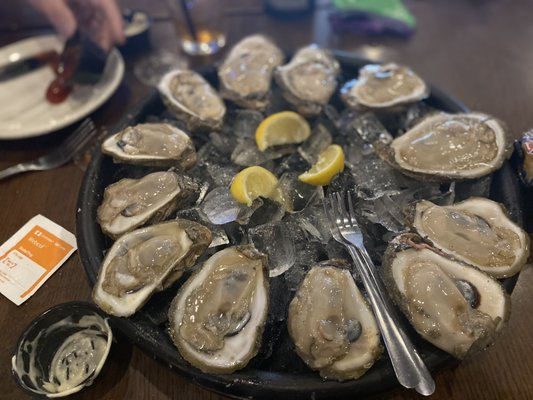burger: (322, 172, 435, 395), (1, 118, 98, 183)
pasta: (297, 143, 346, 188)
pizza: (167, 0, 228, 65)
sushi: (11, 301, 113, 398)
